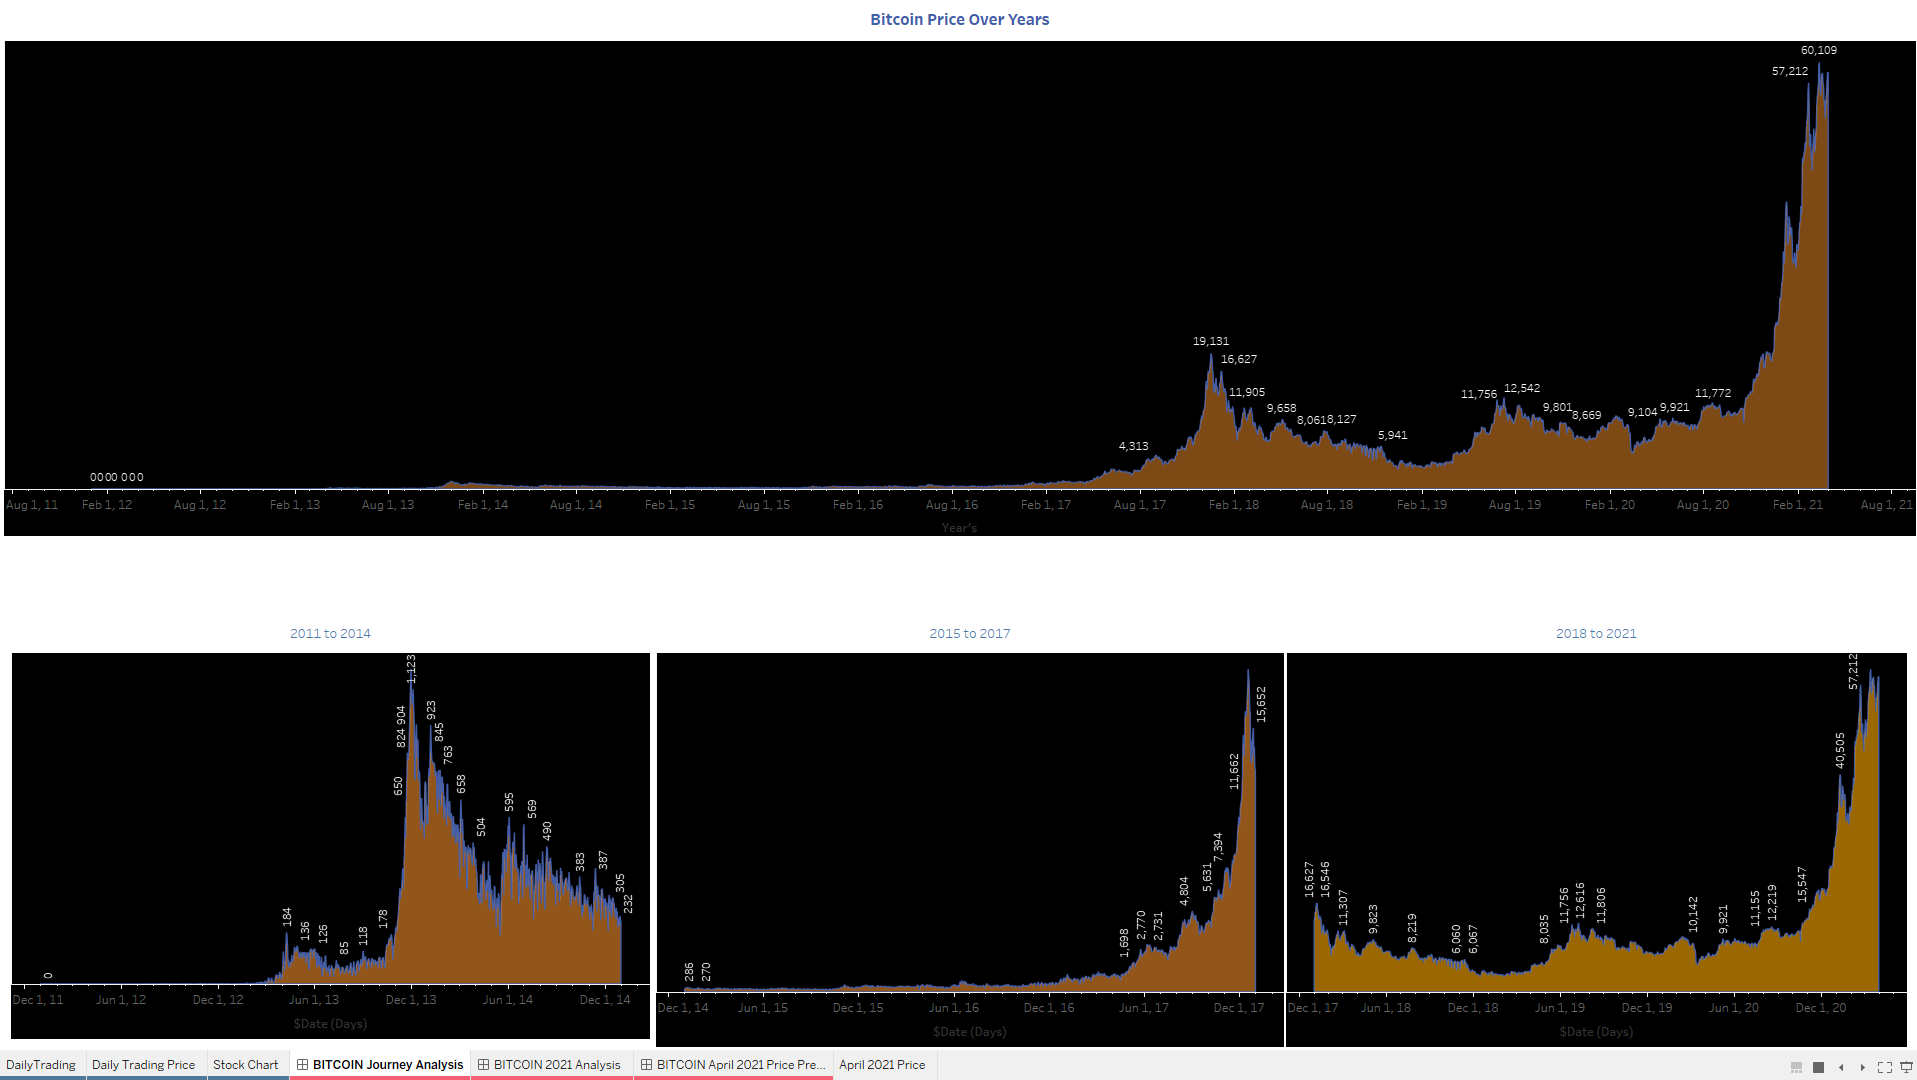

The page's visual inventory and layout, read from the dashboard file:
{"tool":"tableau","page":{"name":"BITCOIN Journey Analysis","canvas":[1000,1000],"units":"permille","ordinal":2},"visuals":[{"type":"worksheet","title":"YearlyBitSum","mark":"Area","rows":["Weighted_Price"],"cols":["$Date (Days)"],"box":[4.7,8.8,990.6,491.2]},{"type":"filter","title":"YearlyBitSum","param":"[federated.0d28ofl0g40r0219957rx1anl8fv].[yr:$Date (Years):ok]","box":[880.1,36.5,99.4,269.9]},{"type":"image","param":"Image/960x0.jpeg","box":[8.1,45.4,216.2,314.2]},{"type":"dashboard-object","box":[972.5,50.9,15.2,26.6]},{"type":"filter","title":"YearlyBitSum","param":"[federated.0d28ofl0g40r0219957rx1anl8fv].[qr:$Date (Quarters):ok]","box":[880.1,306.4,99.4,130.5]},{"type":"filter","title":"YearlyBitSum","param":"[federated.0d28ofl0g40r0219957rx1anl8fv].[mn:$Date (Months):ok]","box":[880.1,436.9,99.4,292]},{"type":"worksheet","title":"2011-2014","mark":"Area","rows":["Weighted_Price"],"cols":["$Date (Months)"],"box":[4.7,500,317.1,491.2]},{"type":"worksheet","title":"2015-2017","mark":"Area","rows":["Weighted_Price"],"cols":["$Date (Months)"],"box":[321.8,500,354,491.2]},{"type":"worksheet","title":"2018-2021","mark":"Area","rows":["Weighted_Price"],"cols":["$Date (Months)"],"box":[675.8,500,319.5,491.2]}]}

Visuals, with their boxes on the dashboard's canvas, which has no fixed pixel size, in thousandths of its width and height (x1, y1, x2, y2). These are canvas units, not pixel positions in the 1917x1080 screenshot, which may show the page scaled, cropped or inside an application window:
"YearlyBitSum" worksheet (Area marks): x1=5 y1=9 x2=995 y2=500
"YearlyBitSum" filter: x1=880 y1=36 x2=980 y2=306
image: x1=8 y1=45 x2=224 y2=360
dashboard-object: x1=972 y1=51 x2=988 y2=78
"YearlyBitSum" filter: x1=880 y1=306 x2=980 y2=437
"YearlyBitSum" filter: x1=880 y1=437 x2=980 y2=729
"2011-2014" worksheet (Area marks): x1=5 y1=500 x2=322 y2=991
"2015-2017" worksheet (Area marks): x1=322 y1=500 x2=676 y2=991
"2018-2021" worksheet (Area marks): x1=676 y1=500 x2=995 y2=991
